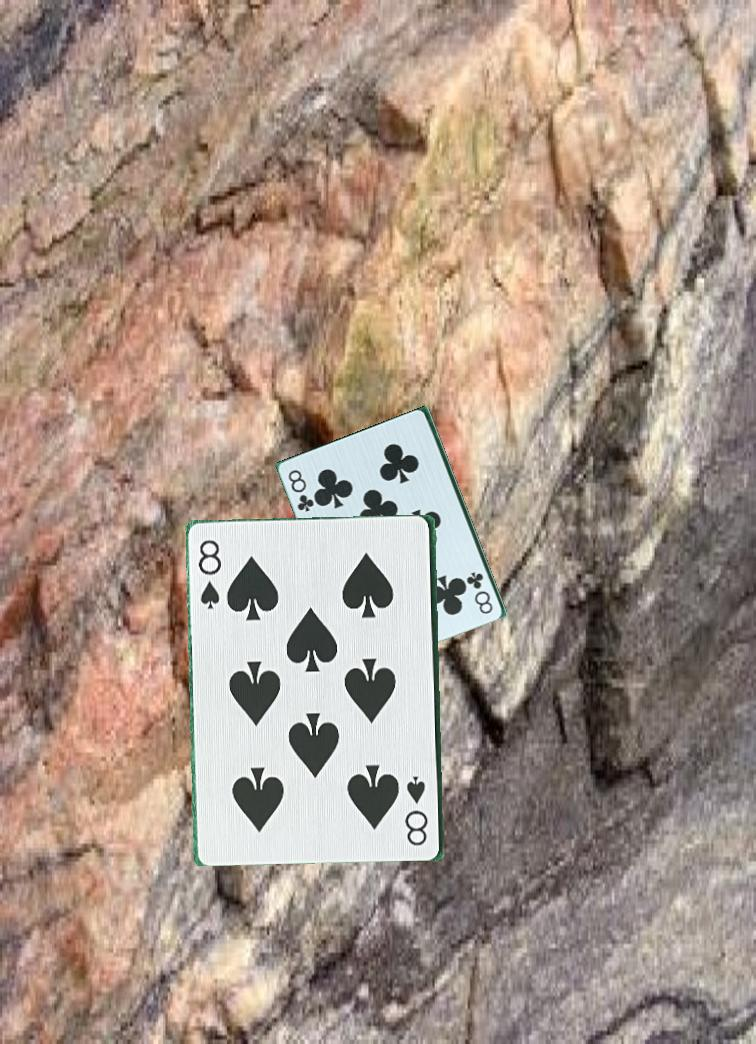8c: (285, 466, 317, 516), (465, 568, 496, 617)
8s: (193, 525, 223, 612), (403, 769, 431, 849)
